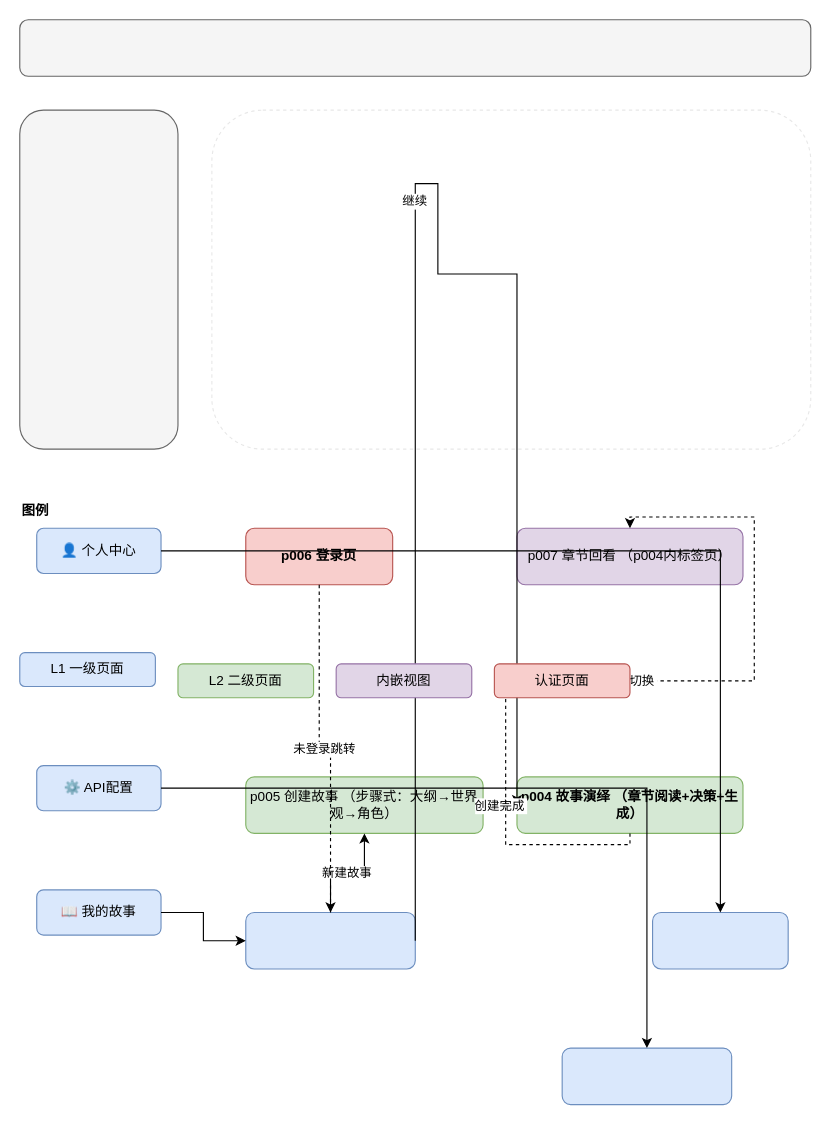
This 831x1124 diagram has some shape labels left out. Here are the shapes that lost their labels. From the top down, the centre of each, then its label:
At point (415, 47): "顶栏：Logo + 戏境 + 用户头像".
At point (98, 279): "侧边栏".
At point (511, 279): "内容区".
At point (330, 940): "p001 故事列表".
At point (719, 940): "p003 个人中心".
At point (646, 1076): "p002 API配置".
